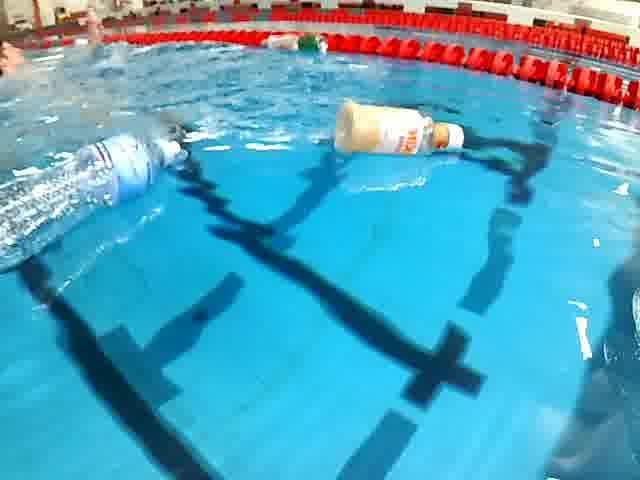Bottle: (0, 124, 186, 269), (328, 97, 471, 164), (261, 31, 300, 56)
Can: (296, 31, 331, 56)
